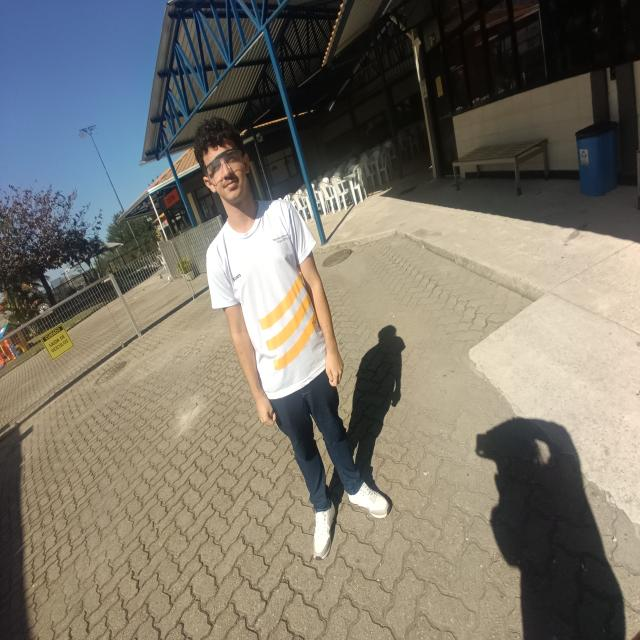oculos-epi: (206, 149, 242, 179)
